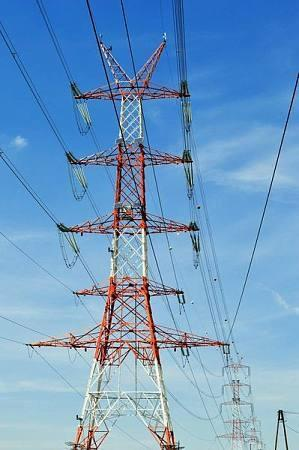power_tower: (51, 25, 193, 450), (214, 355, 261, 450)
